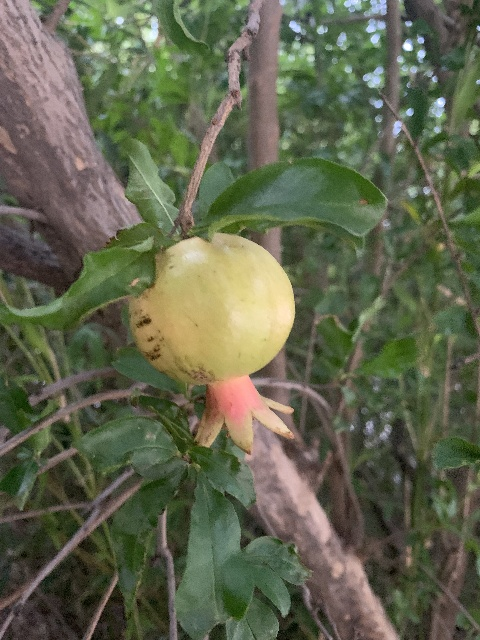mid-growth: (128, 233, 297, 454)
